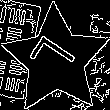L_SE: (27, 33, 85, 87)
